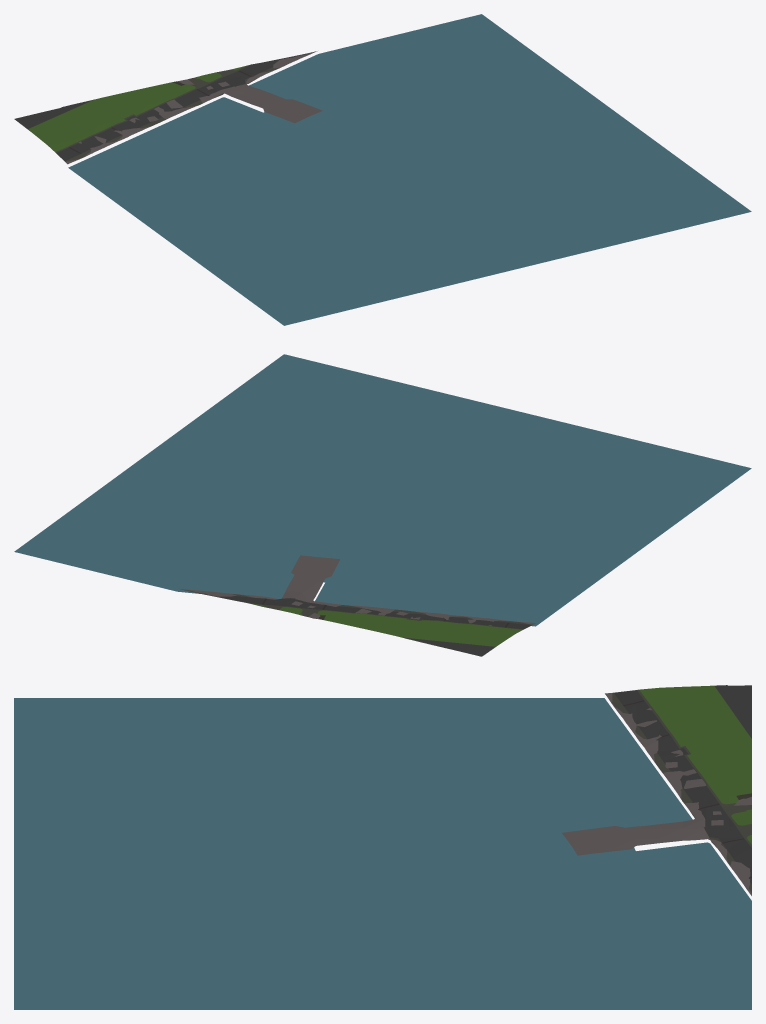
The picture shows the model from 3 angles, top to bottom: view 1: azimuth 30°, elevation 25°; view 2: azimuth 150°, elevation 25°; view 3: azimuth 270°, elevation 25°; orthographic projection. The views are drawn at different scales.
Visible parts, largest first — view 1: c_m03_p13; view 2: c_m03_p13; view 3: c_m03_p13.
Part boxes in pixels (x1,y1,x2,y2): c_m03_p13: (14, 14, 751, 325); c_m03_p13: (14, 354, 751, 656); c_m03_p13: (14, 685, 751, 1009).
Bounding box in the file's own units: 128 × 2.47 × 128.
